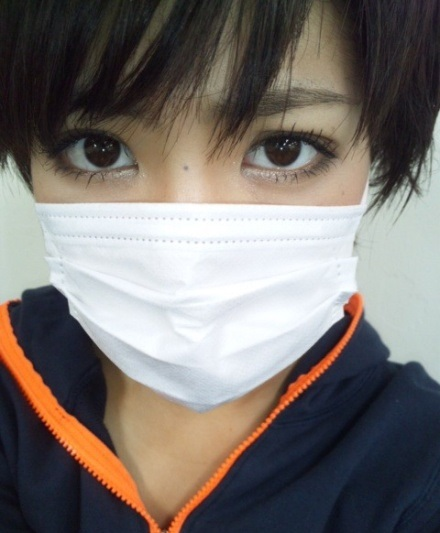face_mask: (27, 1, 387, 408)
